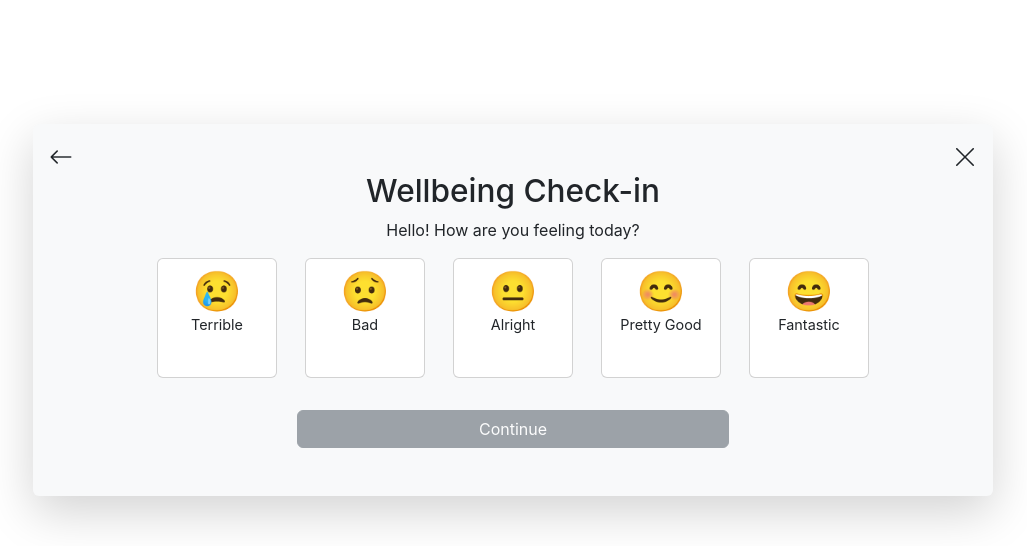
Test: WellbeingCheckIn Component › displays toast message when Continue is clicked after selecting an emoji
Click the button "😢 Terrible" at coordinates (217, 318), box [157,258,277,378]
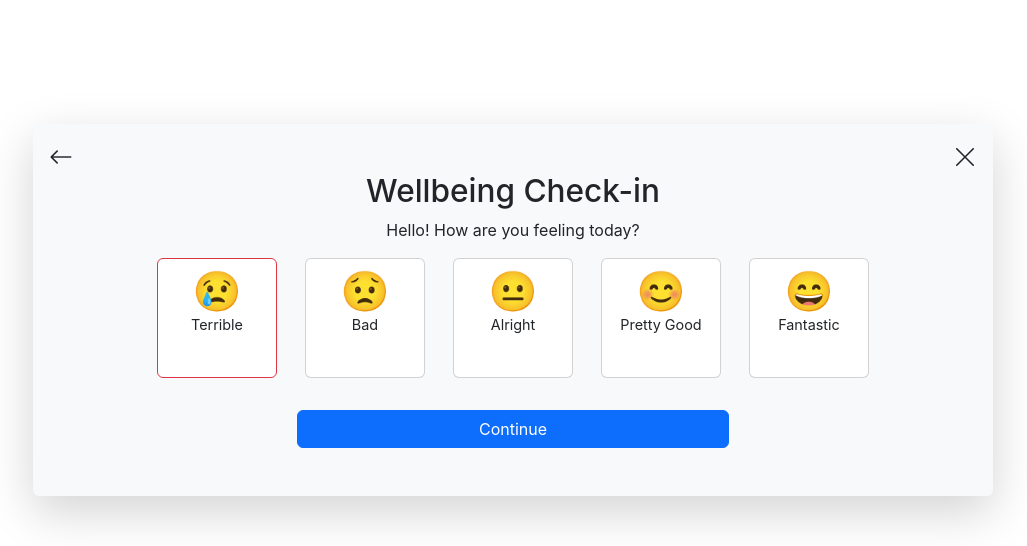
Click the button "Continue" at coordinates (513, 429), box [297,410,729,448]
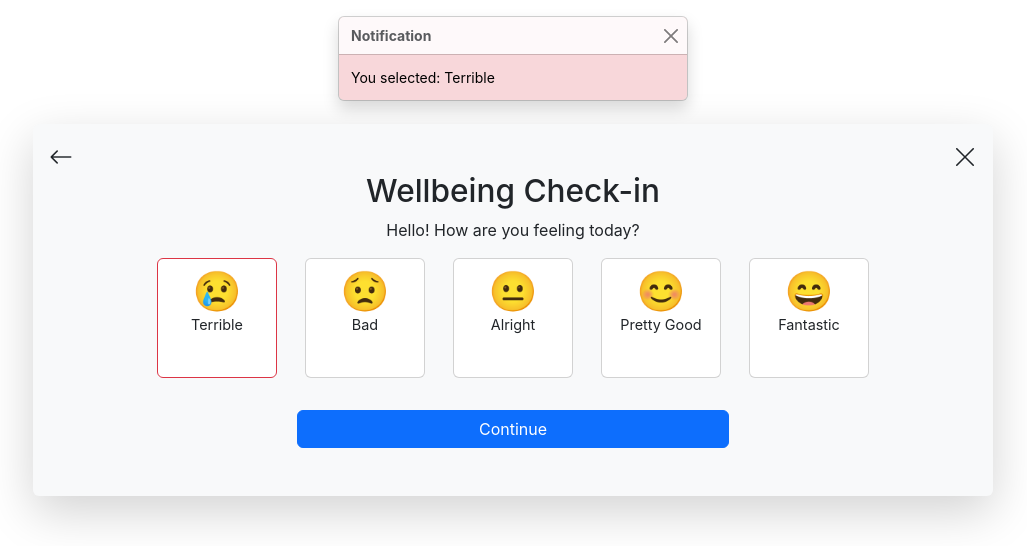
Result: the text "You selected: Terrible" is shown at [351,69,495,86]
